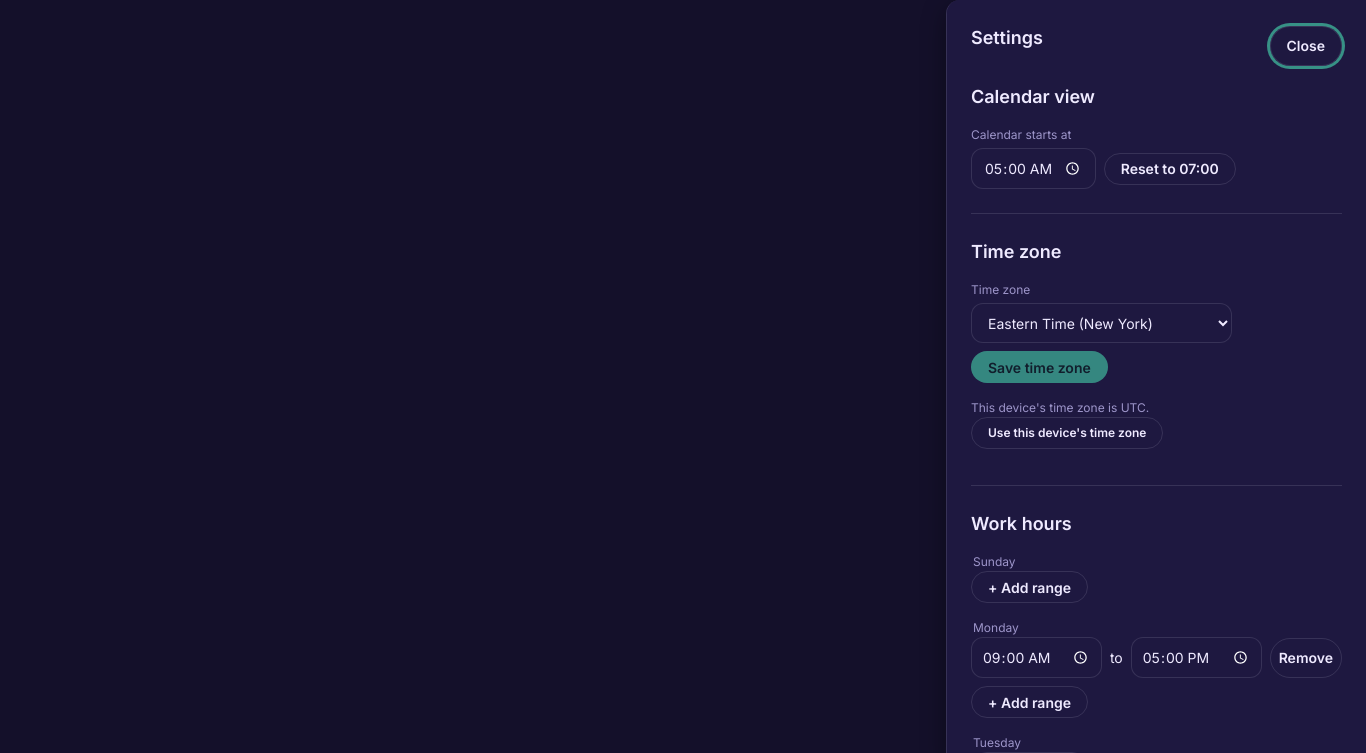
Test: Calendar starts at › Reset to 07:00 restores the default and tells the calendar
This screenshot has width=1366, height=753.
Expected: the time field labelled "Calendar starts at" holds "05:00", x1=971 y1=148 x2=1096 y2=189
Click the button "Reset to 07:00" at [1170, 168], box x1=1104 y1=152 x2=1236 y2=184
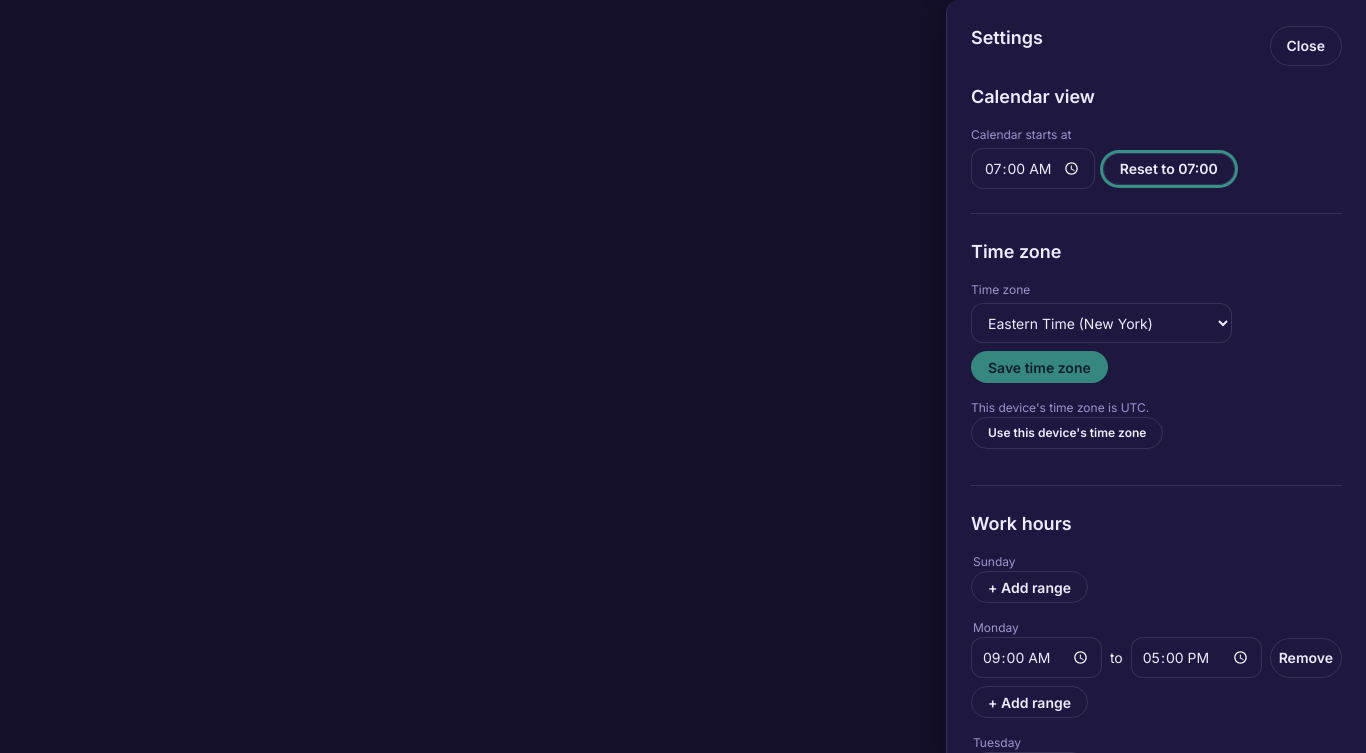
Expected: the time field labelled "Calendar starts at" holds "07:00", x1=971 y1=148 x2=1095 y2=189
